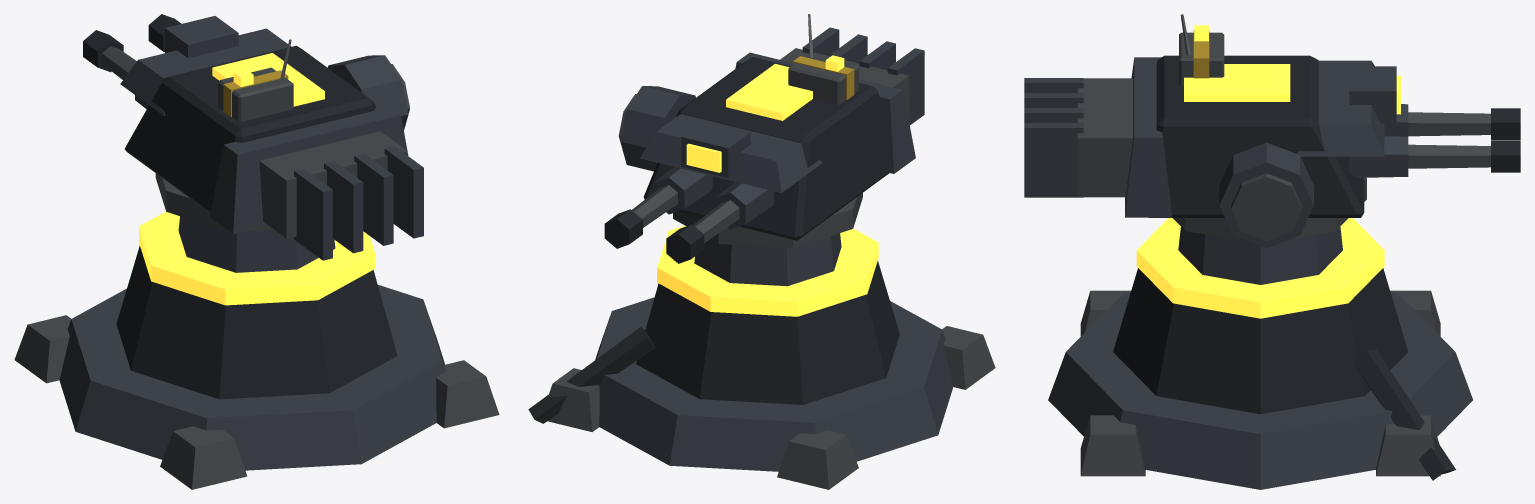
File: device_turret_hacked.glb
3 renders of one model, left to right at view 1: azimuth 30°, elevation 25°; view 2: azimuth 150°, elevation 25°; view 3: azimuth 270°, elevation 25°, orthographic. The views are drawn at different scales.
Parts seen in each view (by area): view 1: base, head; view 2: base, head; view 3: base, head.
Boxes of the visible parts, x1,y1,x2,y2 form: base: (14, 211, 499, 489); head: (83, 14, 423, 260); base: (528, 225, 995, 489); head: (604, 14, 924, 263); base: (1048, 218, 1472, 489); head: (1024, 14, 1520, 247).
Bounding box in the file's own units: 1.44 × 1.43 × 1.68.
